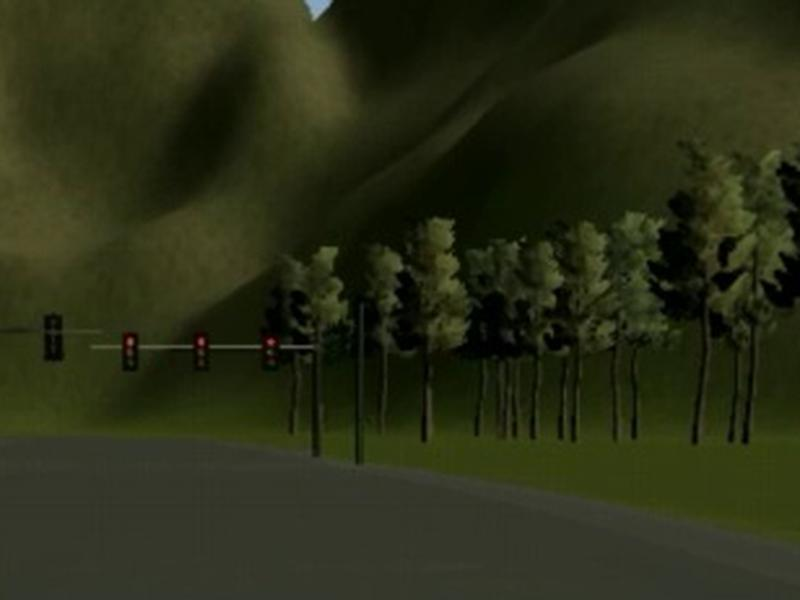Red: (121, 330, 140, 374), (260, 333, 279, 373), (193, 332, 211, 373)
